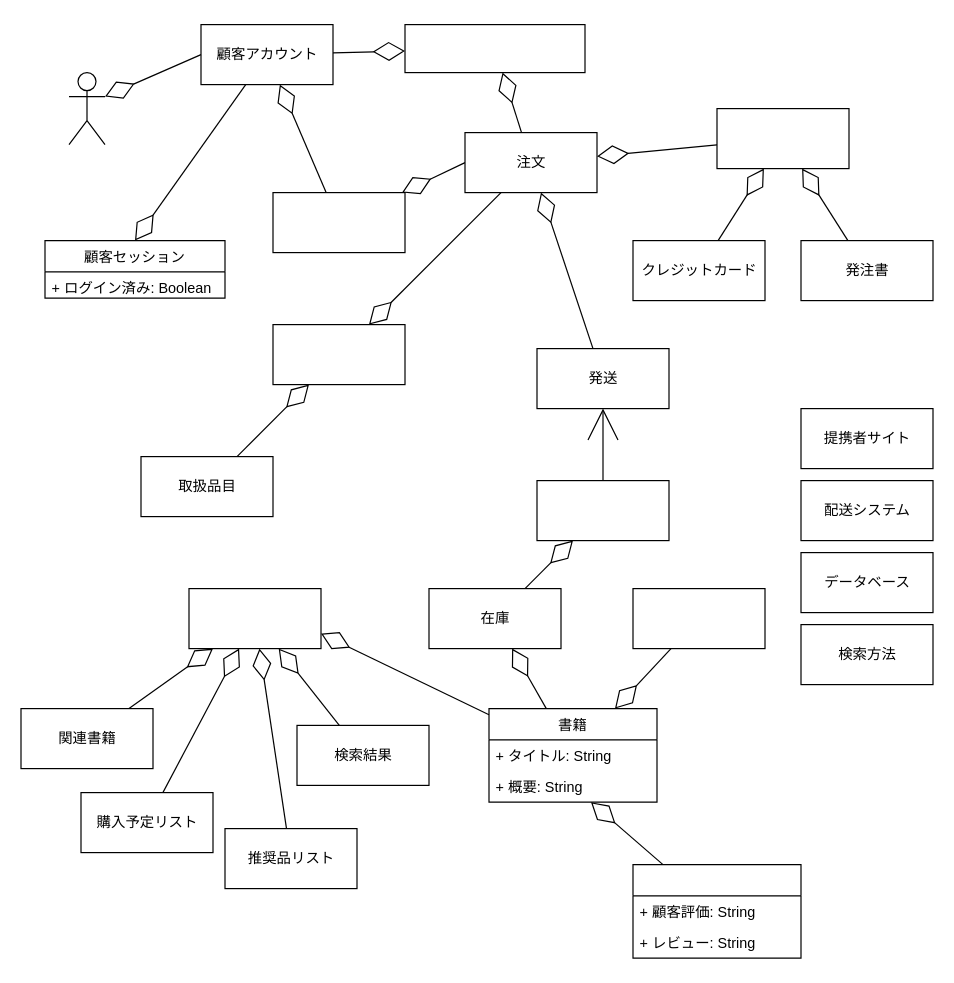
Image size: 954x983. Some labels were removed from this diagram. The shapes that lost their labels are listed below. From the top down, each one's box as (x1, y1, x2, y2) in pixels, then its label:
(404, 23, 585, 73): マスターアカウントリスト
(68, 71, 105, 145): 顧客
(716, 107, 849, 169): 支払い方式
(272, 191, 405, 253): 注文履歴
(272, 323, 405, 385): ショッピングカート
(536, 479, 669, 541): 倉庫
(188, 587, 321, 649): 書籍一覧
(632, 587, 765, 649): カテゴリー
(632, 863, 801, 958): 書籍レビュー
